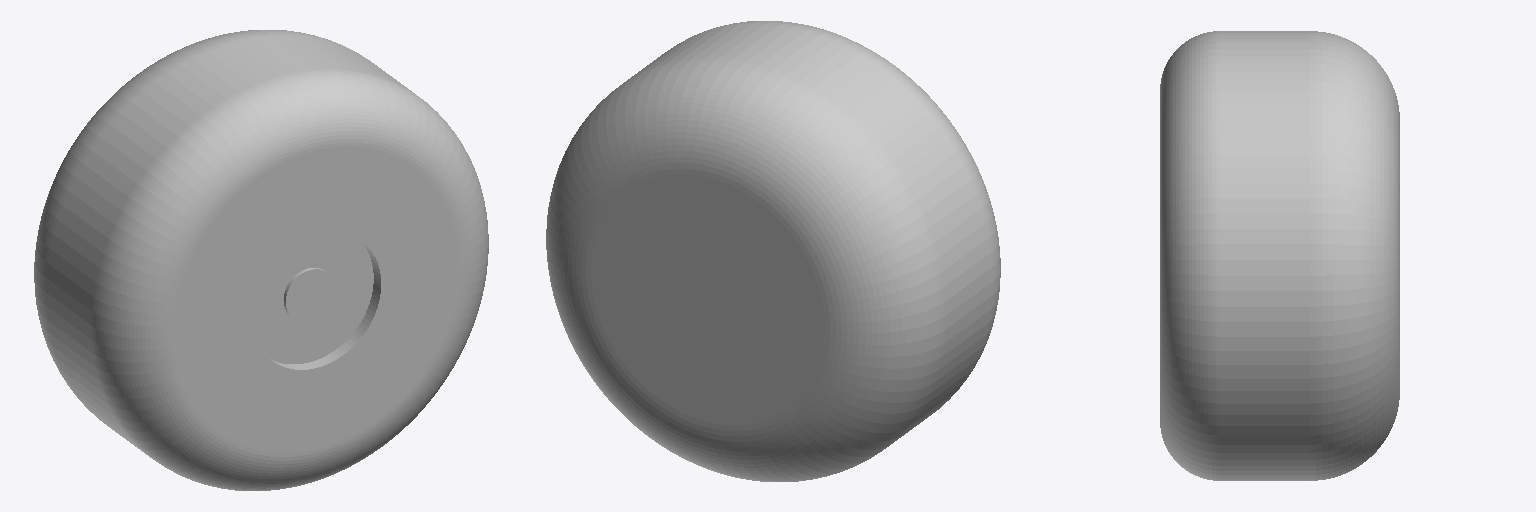
The model's file is light_4_rs.obj.
The picture shows the model from 3 angles: view 1: azimuth 30°, elevation 25°; view 2: azimuth 150°, elevation 25°; view 3: azimuth 270°, elevation 25°; orthographic projection.
Parts seen in each view (by area): view 1: ____01; view 2: ____01; view 3: ____01.
Part boxes in pixels (x1,y1,x2,y2): ____01: (34, 30, 488, 490); ____01: (546, 21, 1000, 481); ____01: (1160, 31, 1399, 480).
Bounding box in the file's own units: 3 × 3 × 1.6.